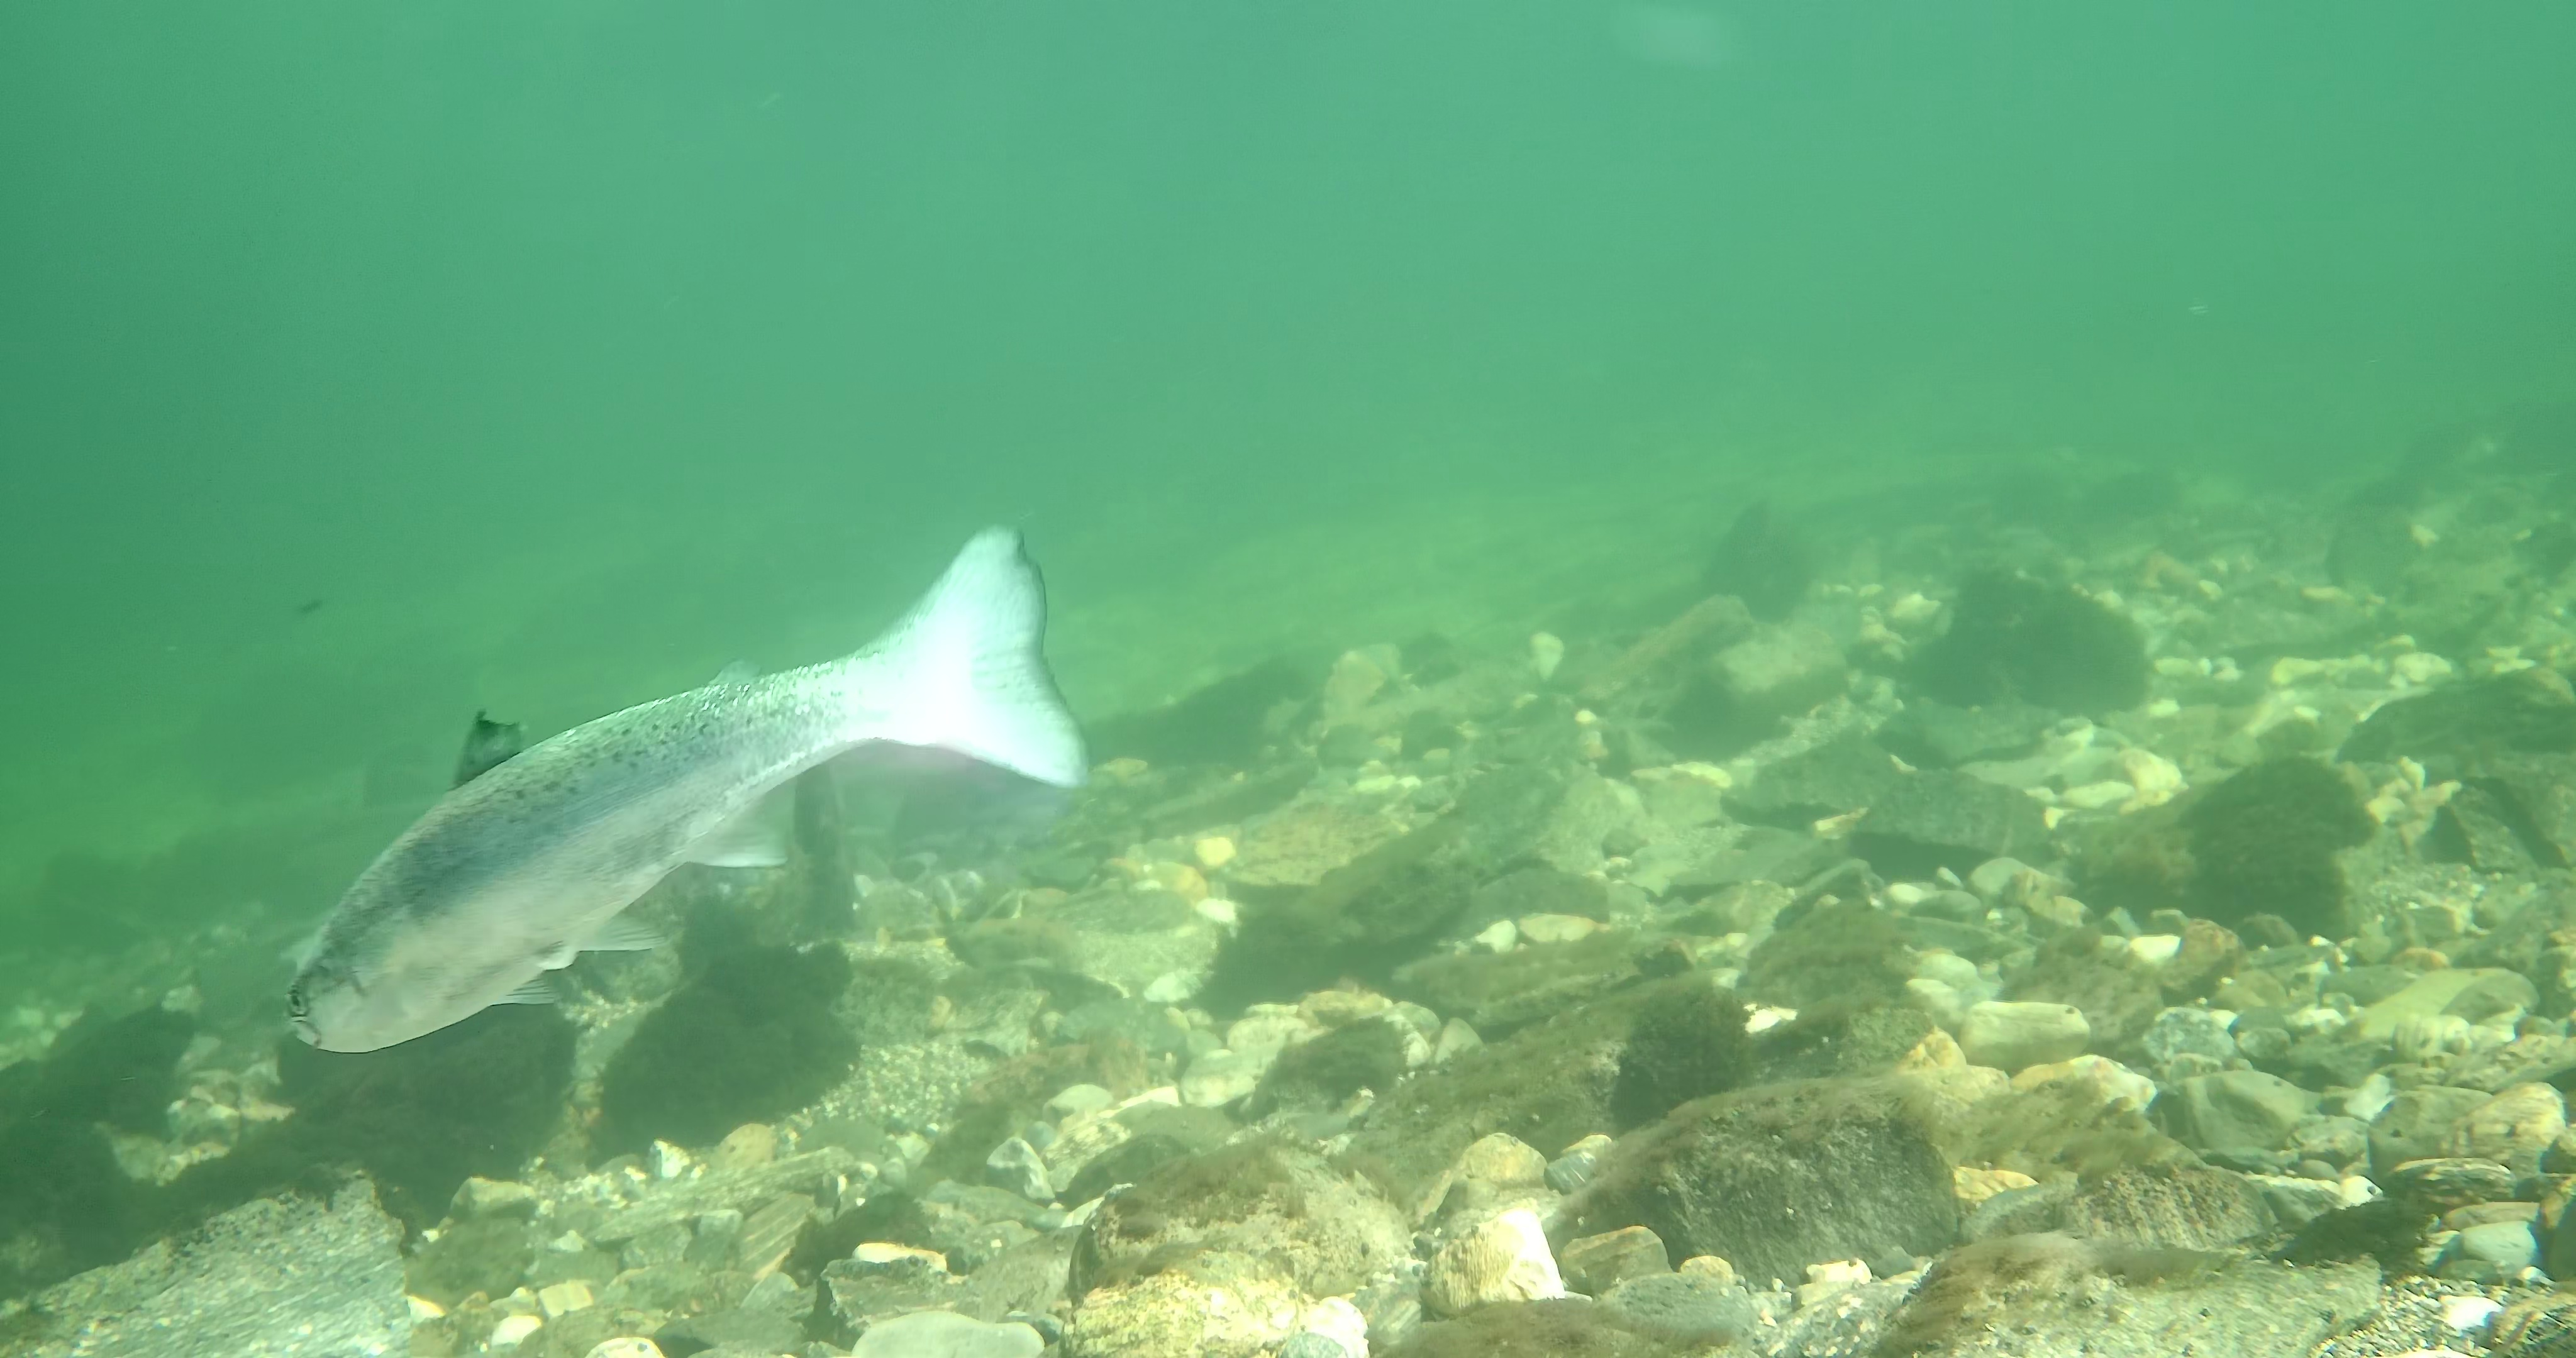salmon: (279, 516, 1094, 1058)
